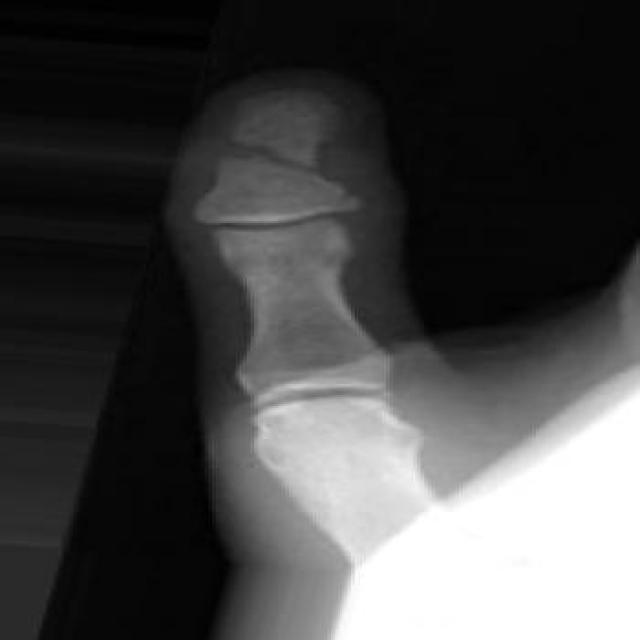Fracture: (203, 133, 347, 195)
